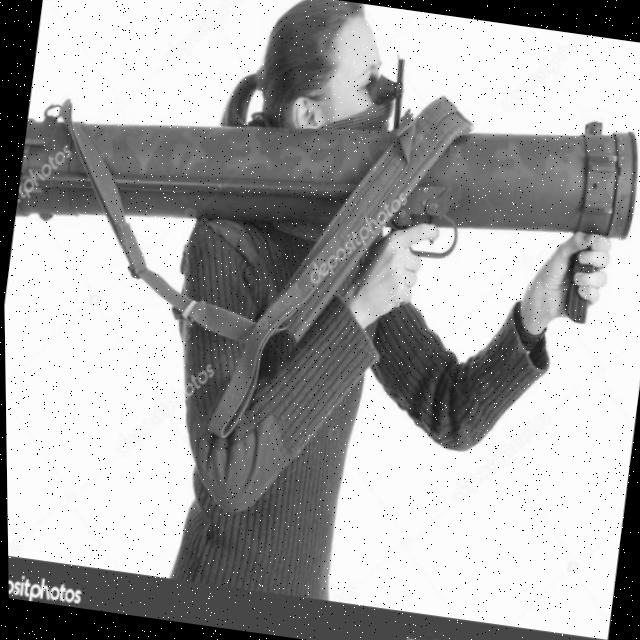rocket: (10, 58, 640, 320)
